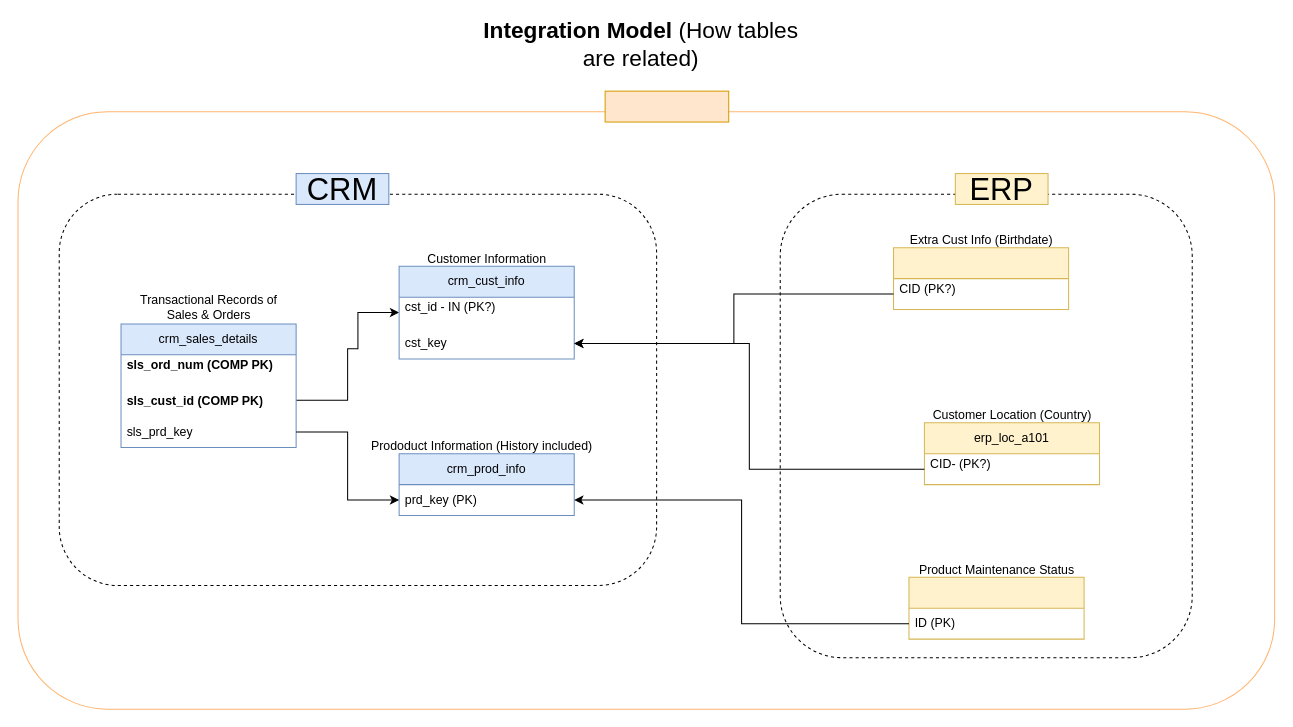
The diagram is 1293 pixels wide and 727 high, and some of its shapes have lost their labels. The box of each missing label's shape, as (x1, y1, x2, y2) in pixels:
Bronze: (604, 90, 729, 122)
erp_cust_az12: (892, 247, 1069, 310)
erp_px_cat_g1v2: (908, 576, 1084, 639)
